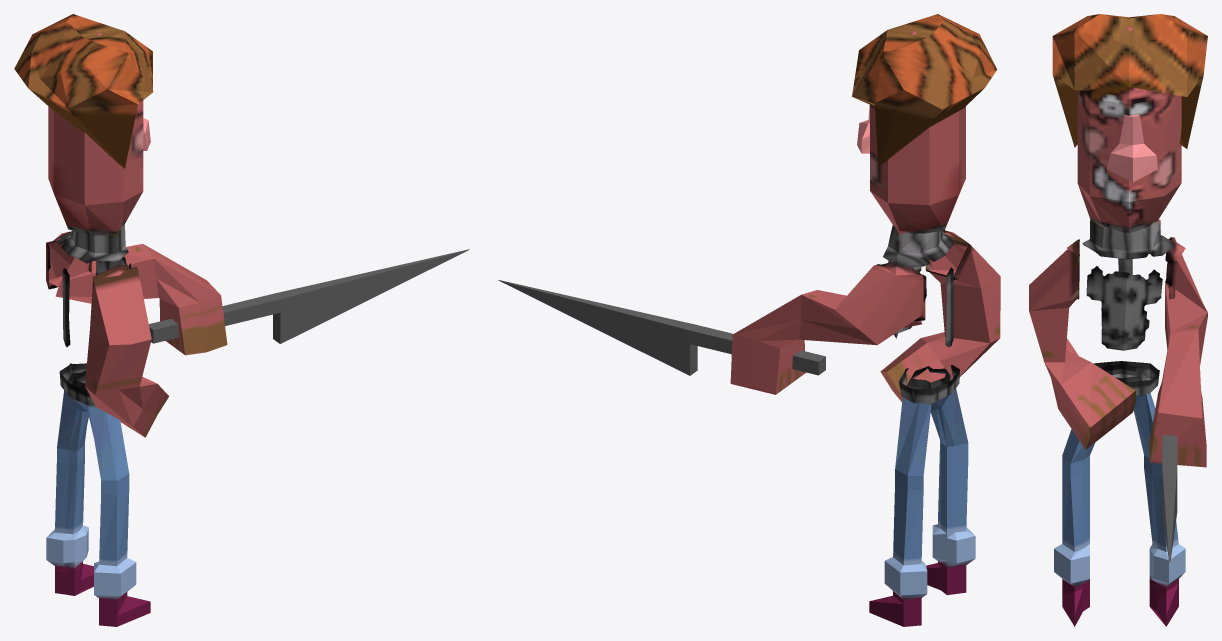
File: KvcBin.glb
3 views of the same model, side by side, from view 1: azimuth 30°, elevation 25°; view 2: azimuth 150°, elevation 25°; view 3: azimuth 270°, elevation 25° (orthographic). The views are drawn at different scales.
Parts seen in each view (by area): view 1: KvcBin; view 2: KvcBin; view 3: KvcBin.
Part boxes in pixels (x1,y1,x2,y2): KvcBin: (14,14,469,626); KvcBin: (498,14,1000,626); KvcBin: (1029,14,1207,626).
Size of the model in its own units: 76.2 by 90.3 by 24.75.
Materials: 1 (1 with a texture image).
